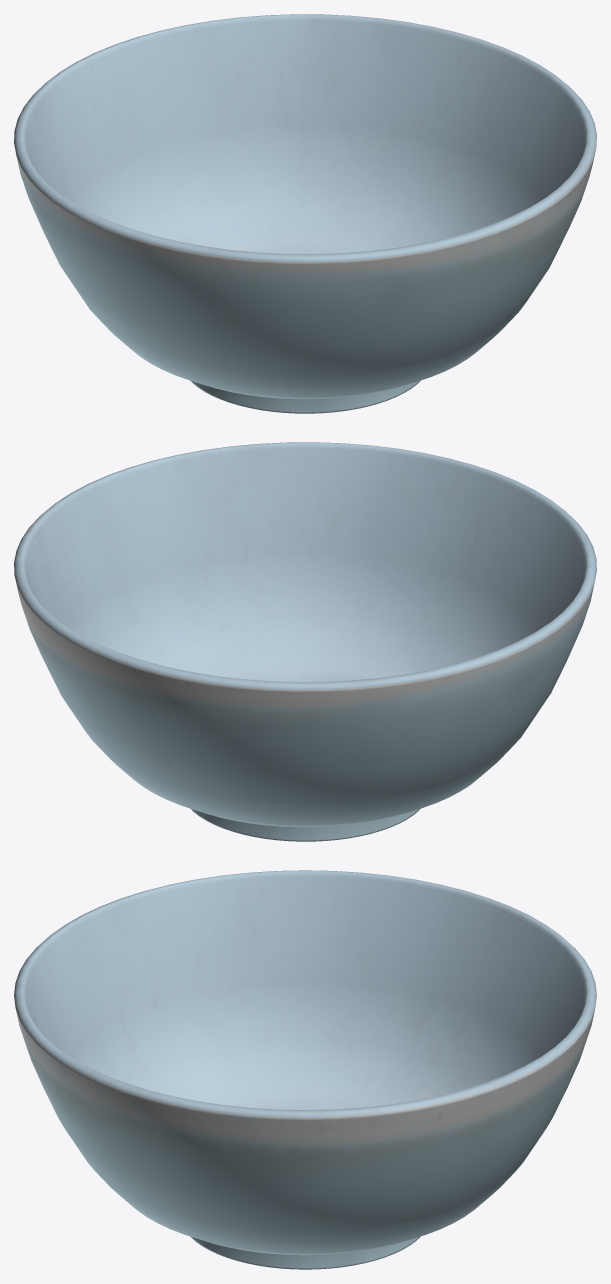
File: geureut.glb
3 renders of one model, top to bottom at view 1: azimuth 30°, elevation 25°; view 2: azimuth 150°, elevation 25°; view 3: azimuth 270°, elevation 25°, orthographic.
Visible parts, largest first — view 1: SM_WhitePorcelainBowl_M_WhitePorcelainBowl_0; view 2: SM_WhitePorcelainBowl_M_WhitePorcelainBowl_0; view 3: SM_WhitePorcelainBowl_M_WhitePorcelainBowl_0.
Boxes of the visible parts, bbox=[...] form: SM_WhitePorcelainBowl_M_WhitePorcelainBowl_0: bbox=[14, 14, 596, 413]; SM_WhitePorcelainBowl_M_WhitePorcelainBowl_0: bbox=[14, 442, 596, 841]; SM_WhitePorcelainBowl_M_WhitePorcelainBowl_0: bbox=[14, 870, 596, 1269].
Size of the model in its own units: 0.1637 by 0.0709 by 0.1637.
Materials: 1 (1 with a texture image).
